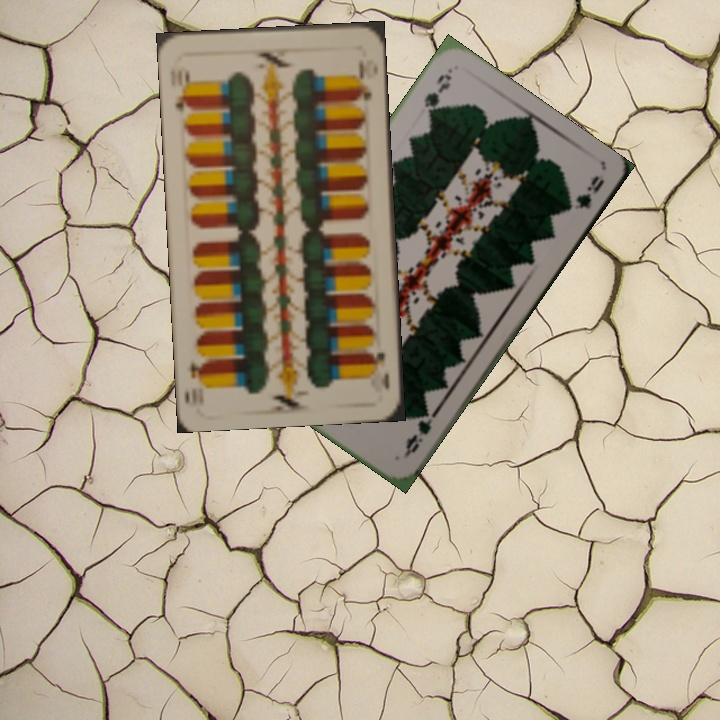E10: (366, 348, 392, 392), (172, 65, 194, 115)
G9: (399, 404, 439, 460), (419, 66, 454, 119)
